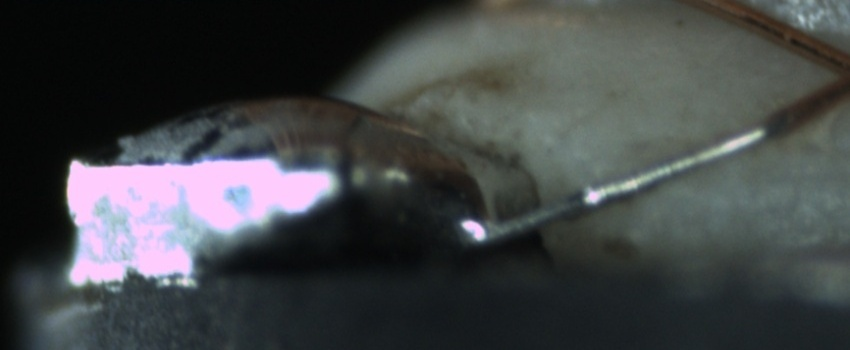CL: (806, 37, 850, 109)
TS: (471, 119, 773, 241)
TTCW: (475, 90, 846, 249)
